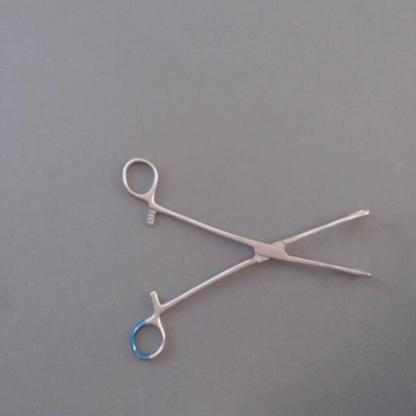Sponge Forceps: (119, 148, 377, 368)
